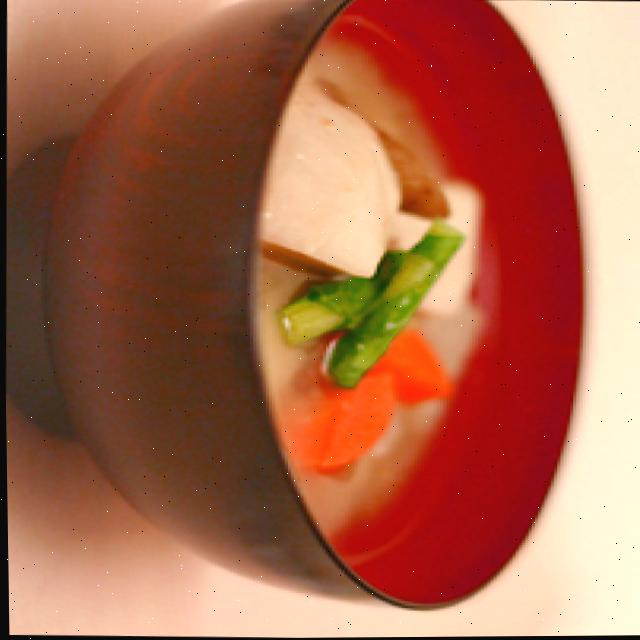蔬菜料理: (181, 0, 630, 621)
